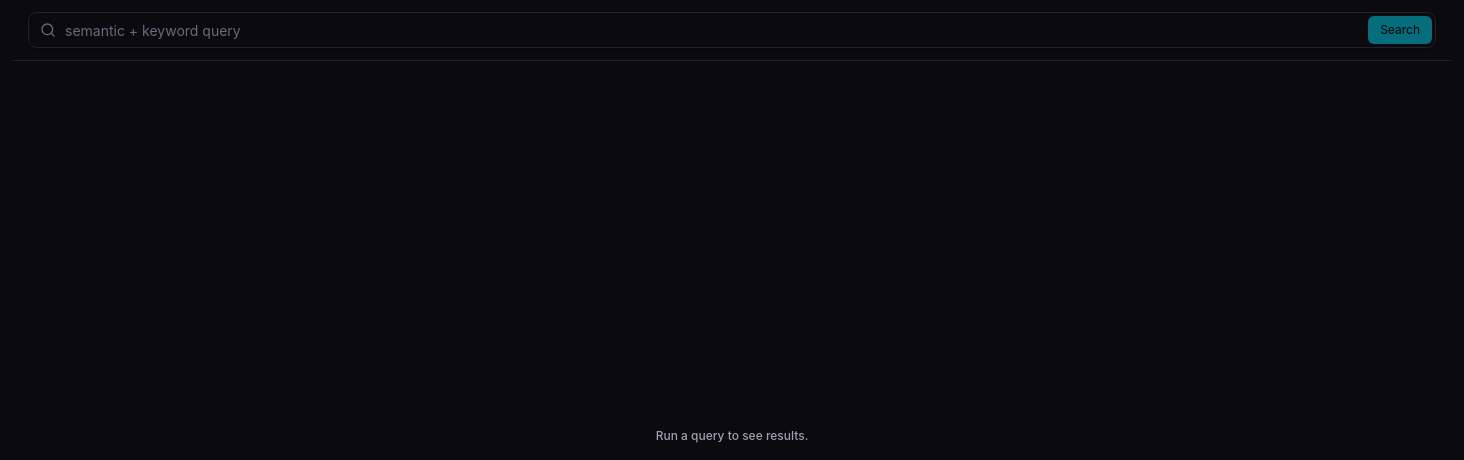
it: VaultSearchTab responses (WEB-22) › shows the hits of a search that succeeds (guard)
This screenshot has width=1464, height=460.
Type "Foo" into the field.
click(732, 30); type("Foo")  # box [28,12,1436,48]
Then press Enter
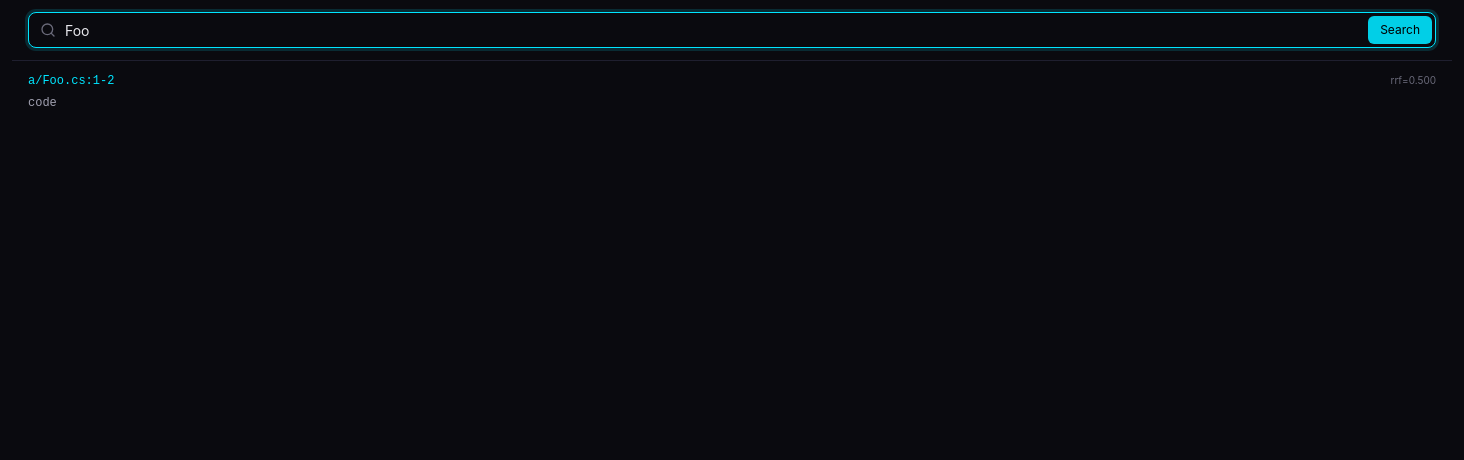
Now the text "a/Foo.cs:1-2" is shown, box [28,73,114,89]
